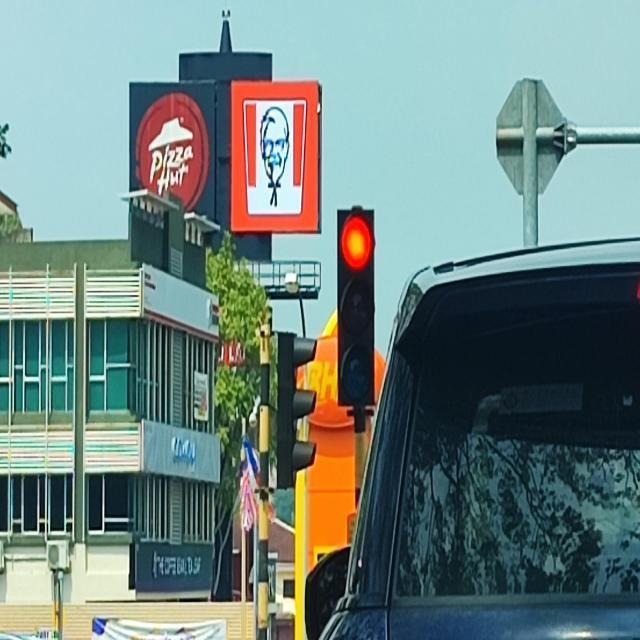red_light: (335, 209, 376, 402)
